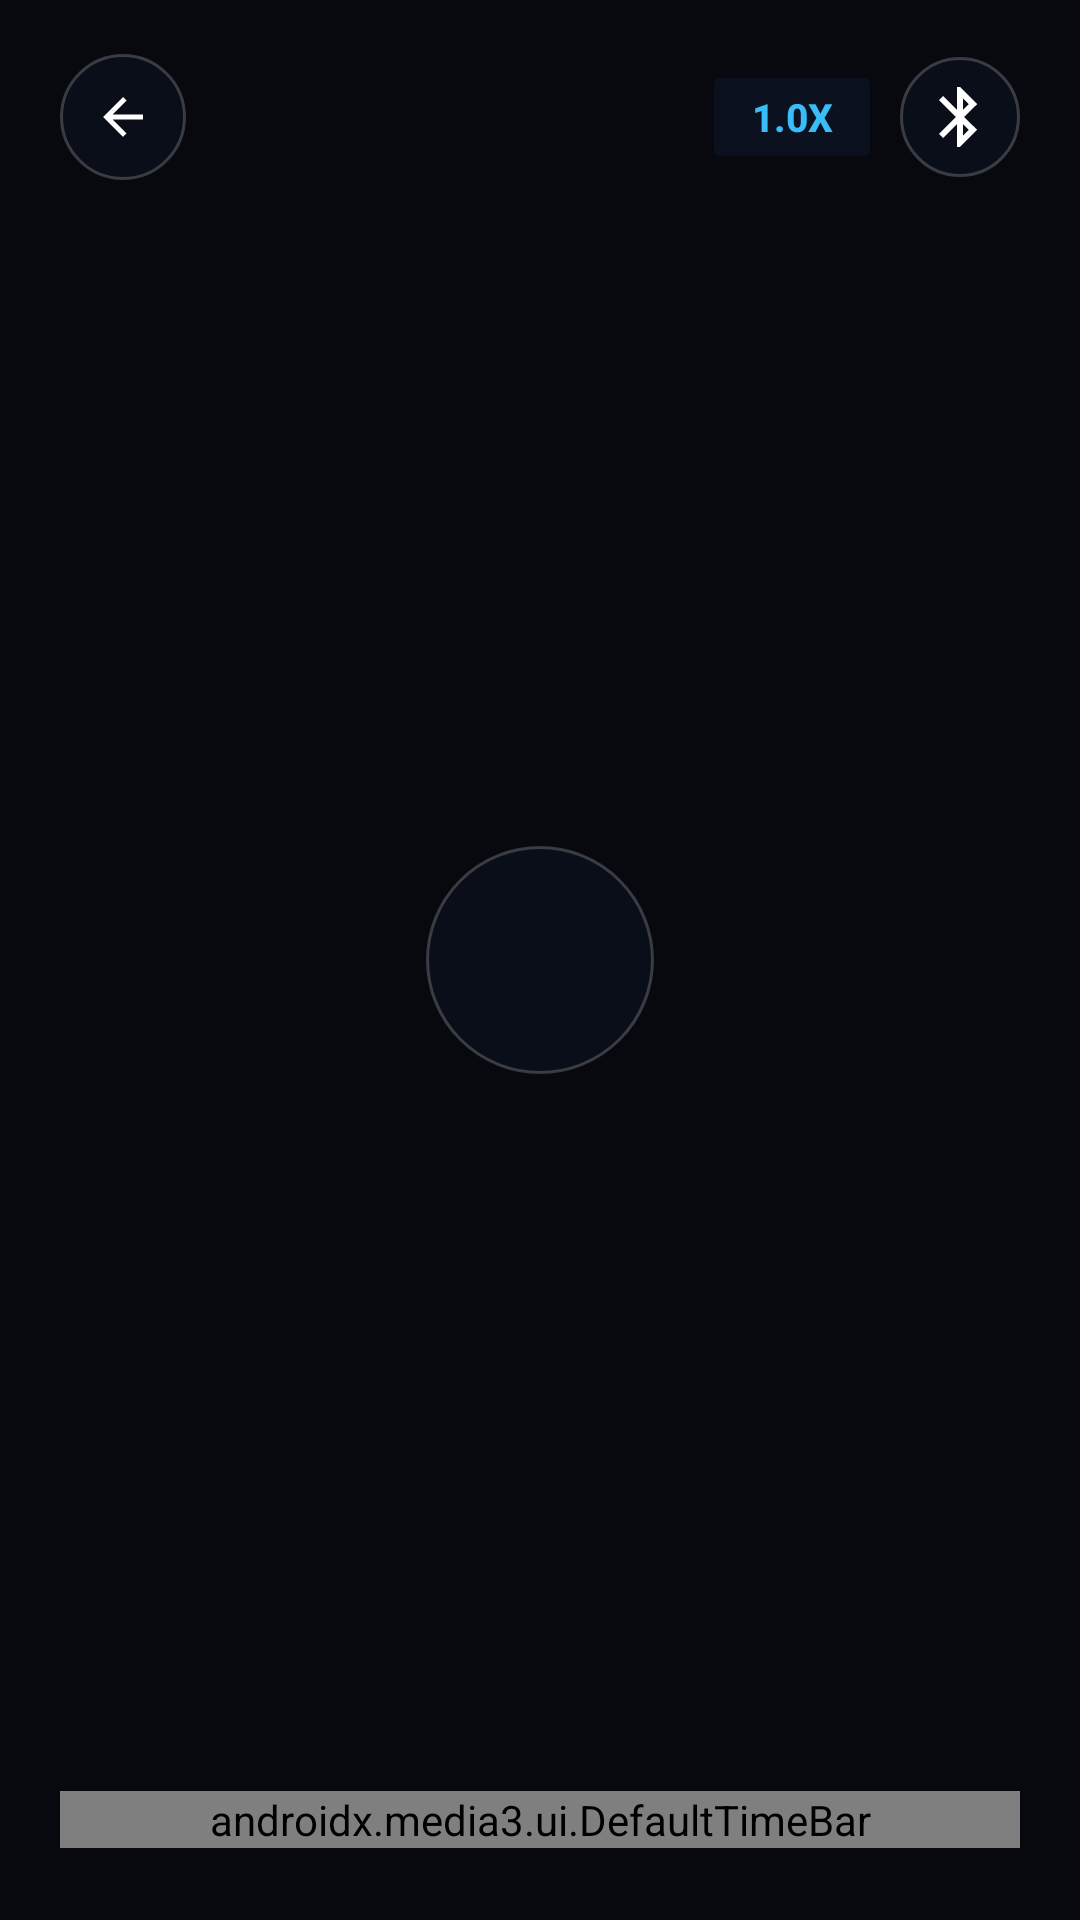

Screen size 1080×1920. Icon name, then its center in pixels as (x,y):
Back: (123,117)
